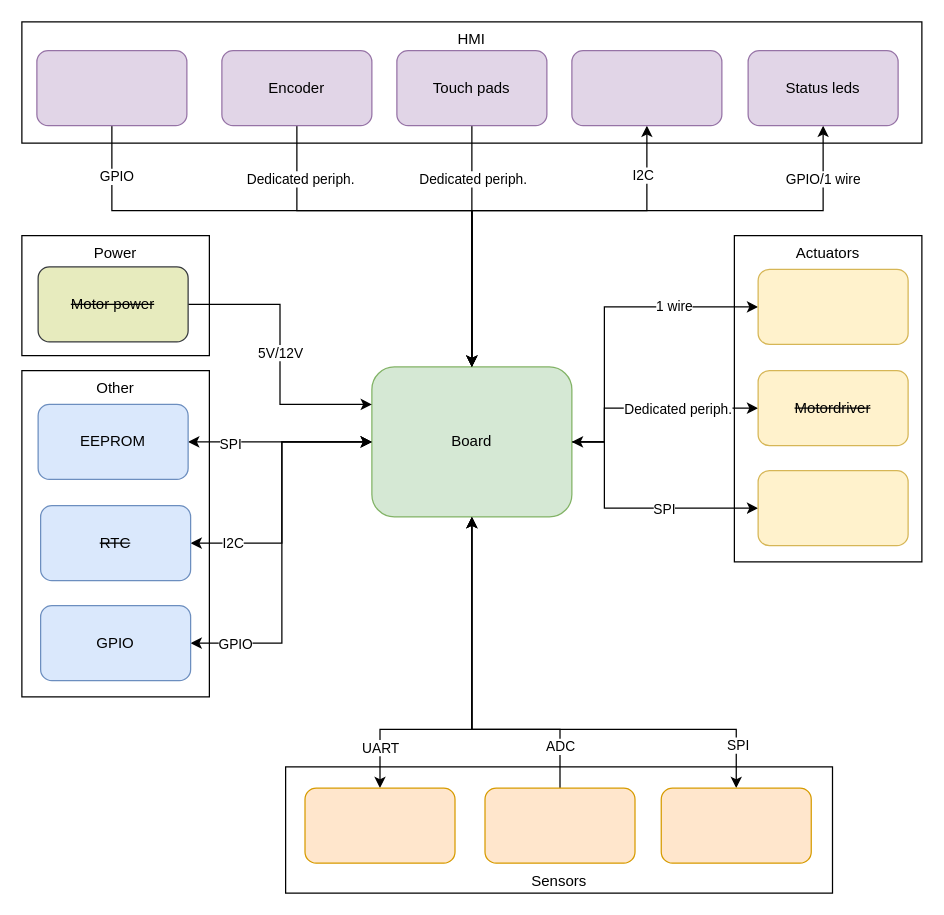
This 944x915 diagram has some shape labels left out. Each missing label, with the centre of its shape:
"Accelerometer" belongs at pixel 735 825.
"Addressable leds" belongs at pixel 832 306.
"Button" belongs at pixel 111 87.
"HC05/GPS" belongs at pixel 379 825.
"OLED" belongs at pixel 646 87.
"Potmeter" belongs at pixel 559 825.
"Shift reg w leds" belongs at pixel 832 507.
